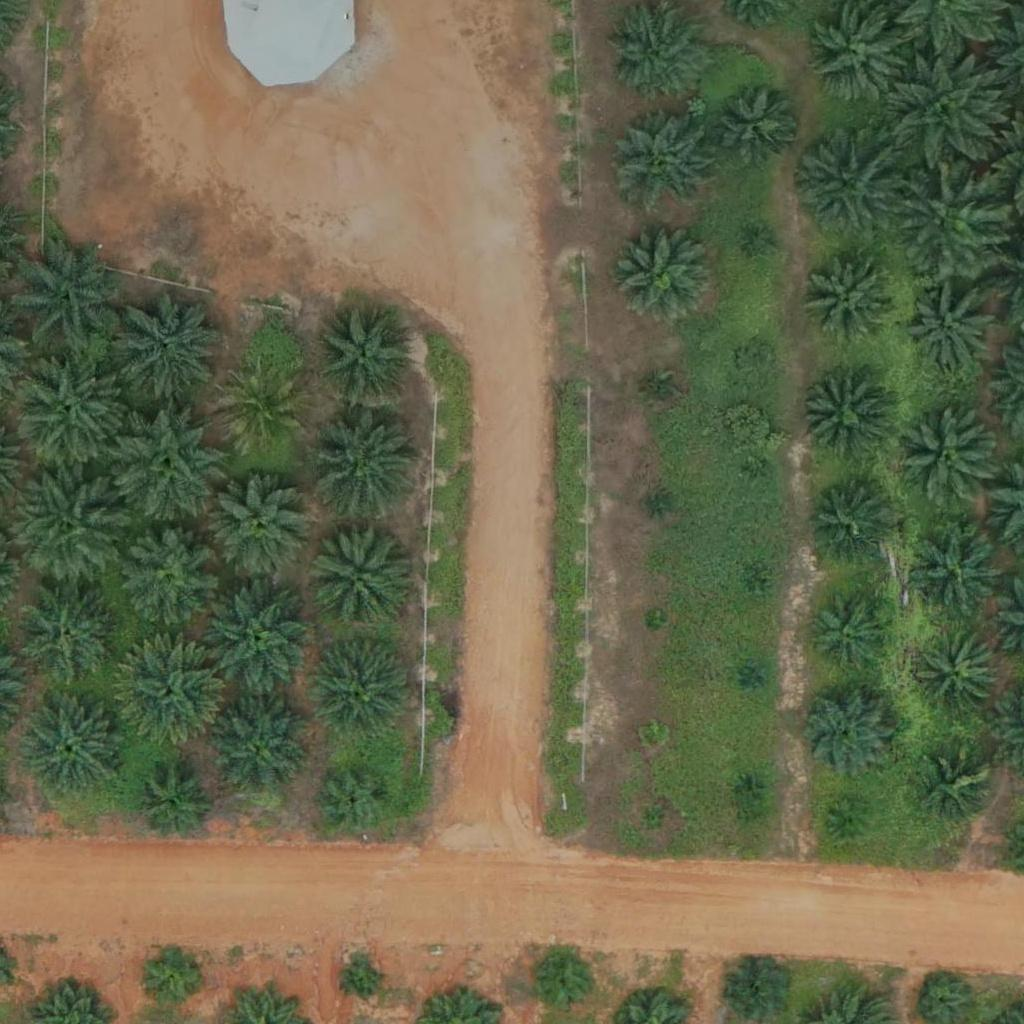Kelapa_Sawit: (791, 128, 904, 242), (115, 291, 228, 405), (113, 407, 226, 521), (13, 242, 126, 356), (202, 580, 315, 693), (891, 56, 1003, 170), (894, 162, 1006, 276), (13, 348, 125, 462), (115, 641, 227, 754), (791, 677, 903, 790), (310, 406, 422, 519), (10, 473, 122, 586), (897, 407, 997, 508), (905, 519, 1005, 620), (612, 111, 712, 212), (610, 219, 710, 320), (312, 306, 412, 407), (209, 698, 309, 799), (18, 589, 118, 690), (22, 696, 122, 797), (809, 6, 909, 106), (307, 526, 407, 626), (312, 640, 412, 740), (213, 479, 313, 579), (119, 529, 219, 629), (809, 588, 897, 677), (806, 480, 894, 568), (915, 632, 1003, 720), (218, 369, 306, 457), (907, 285, 994, 373), (807, 252, 894, 340), (800, 374, 887, 462), (713, 81, 800, 169), (318, 762, 393, 838), (922, 750, 997, 825), (136, 768, 211, 843), (139, 942, 201, 1005), (534, 954, 596, 1017), (738, 344, 776, 382), (831, 799, 869, 837), (346, 962, 383, 1000), (751, 229, 776, 254), (747, 459, 772, 484), (741, 575, 766, 600), (647, 379, 672, 404), (647, 492, 672, 517), (643, 610, 668, 635), (639, 722, 664, 747), (642, 806, 667, 831), (742, 664, 767, 689), (735, 774, 760, 799)
